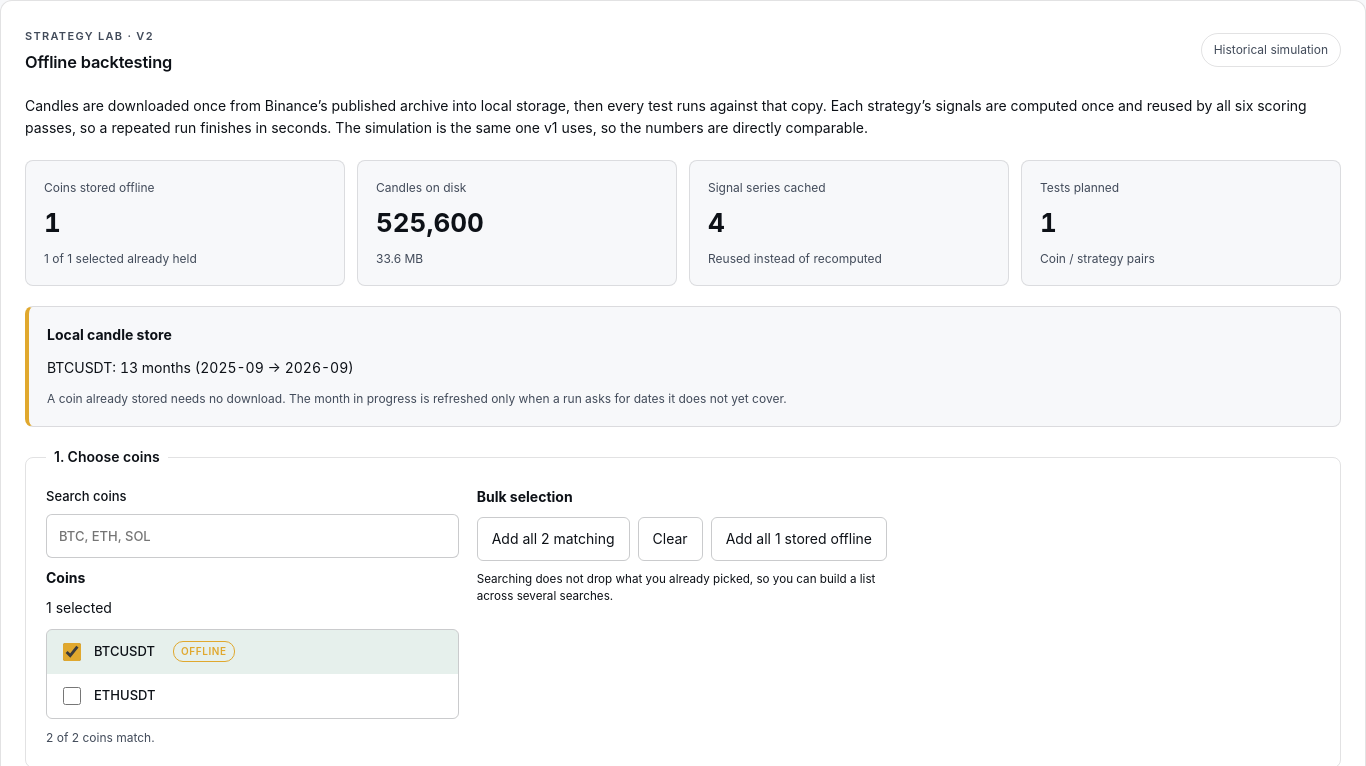
Scenario: warns before the run that a pinned strategy cannot use every coin
Click the checkbox labelled "ETHUSDT": (72, 696) [63,687,81,705]
(page scrolled)
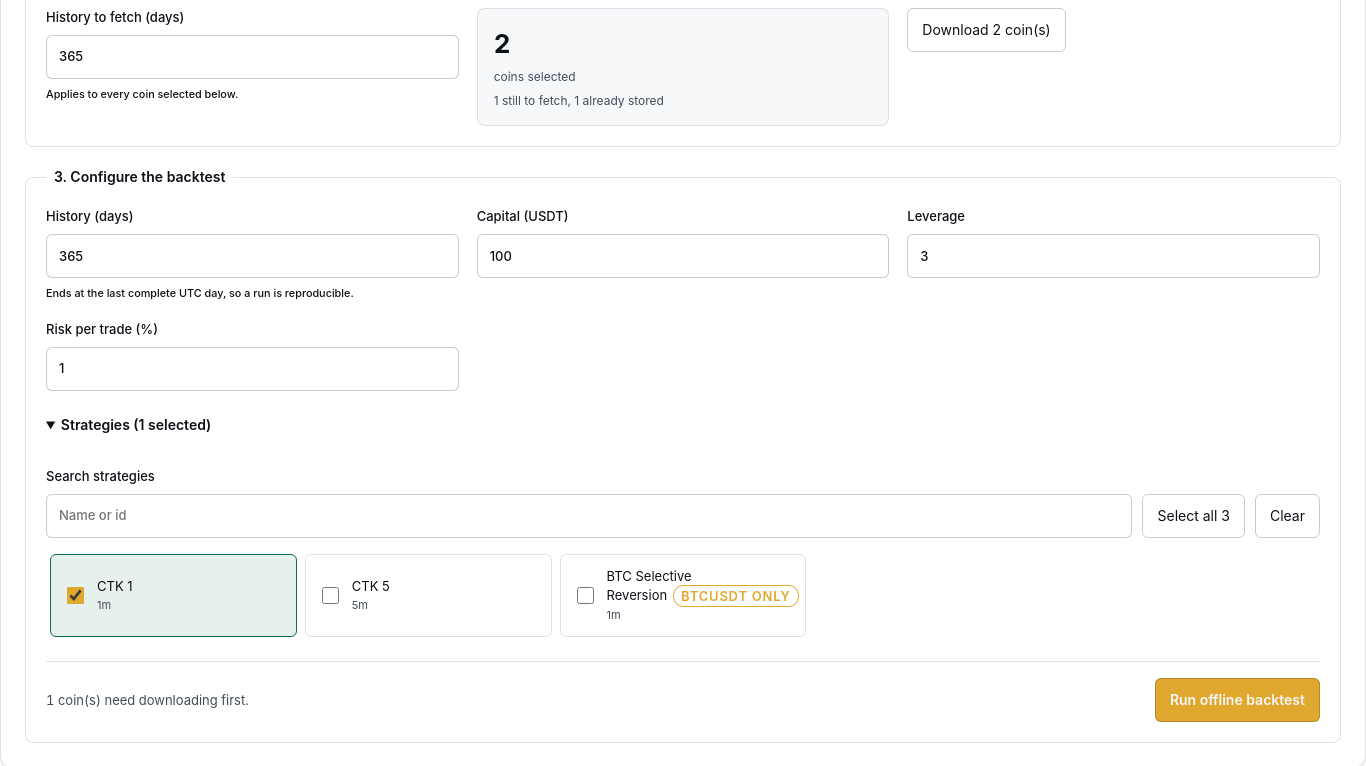
Click the checkbox labelled "BTC Selective Reversion": (585, 596) [577,587,594,604]
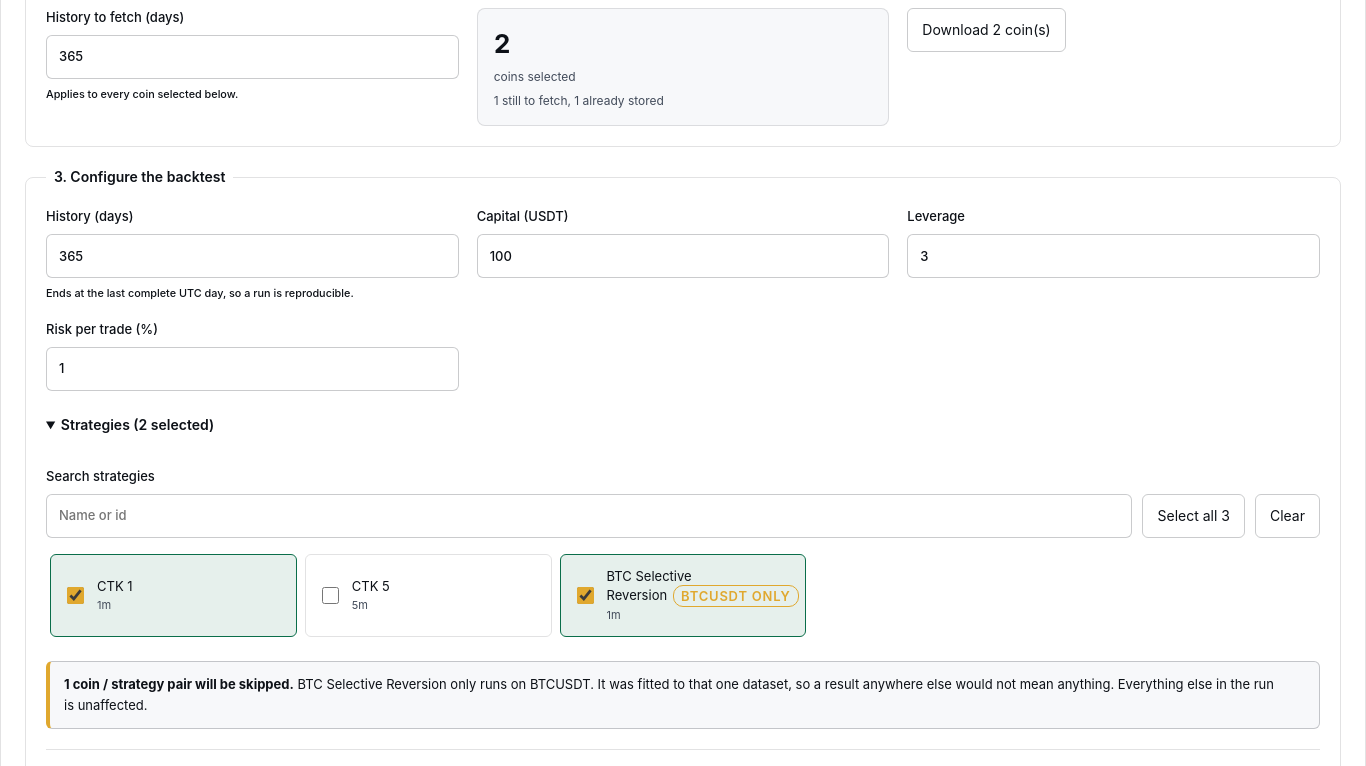
Now the text "1 coin / strategy pair will be skipped." is shown, box [64,676,294,692]
Now the text "only runs on BTCUSDT" is shown, box [298,676,590,692]
